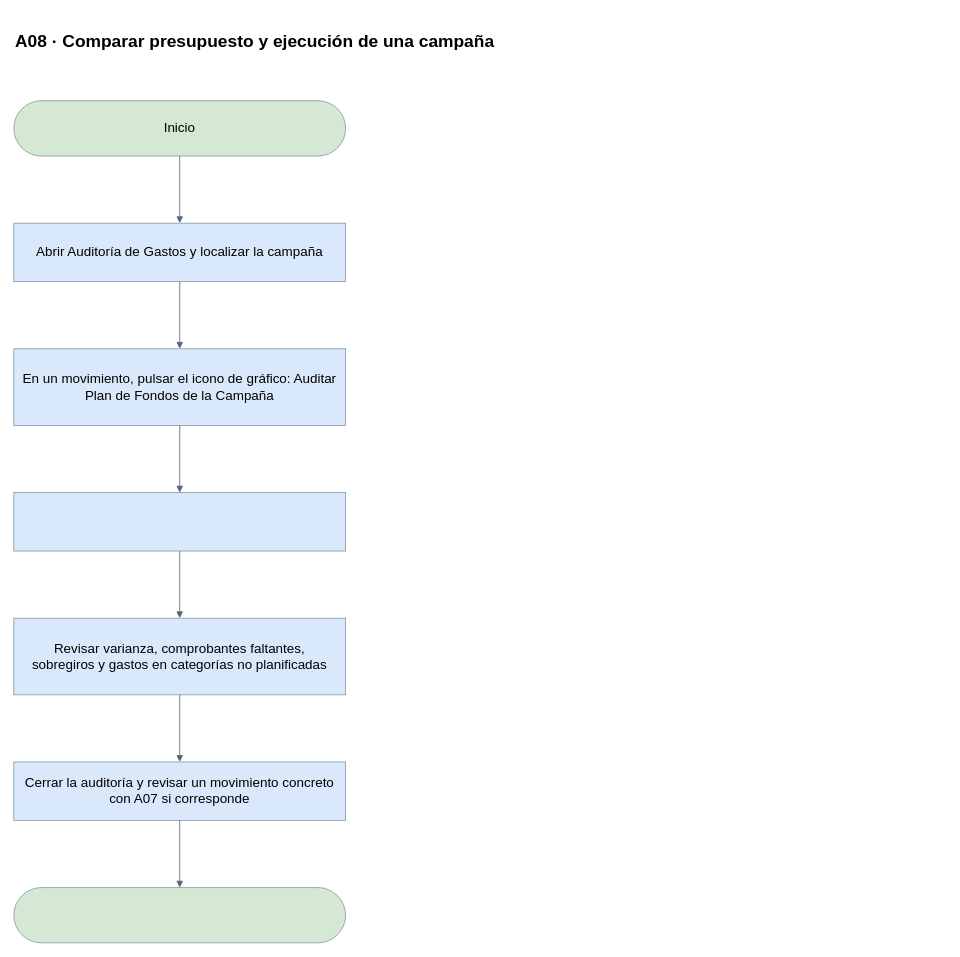
Some shapes in this 960 by 957 pixel diagram are drawn without their labels. The centre of each missing label's shape, as x and y in pixels:
Comparar importes planificados y egresos por categoría: the point at 179,521
Fin: the point at 179,915
